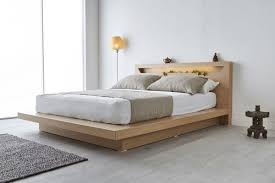bed-matress: (35, 87, 218, 123)
